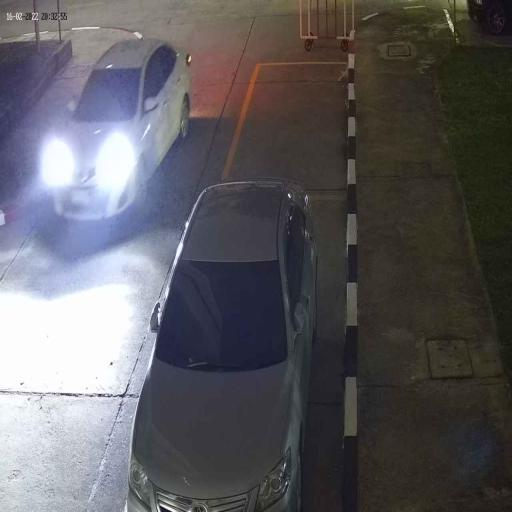car: (126, 179, 320, 512), (52, 37, 192, 226)
